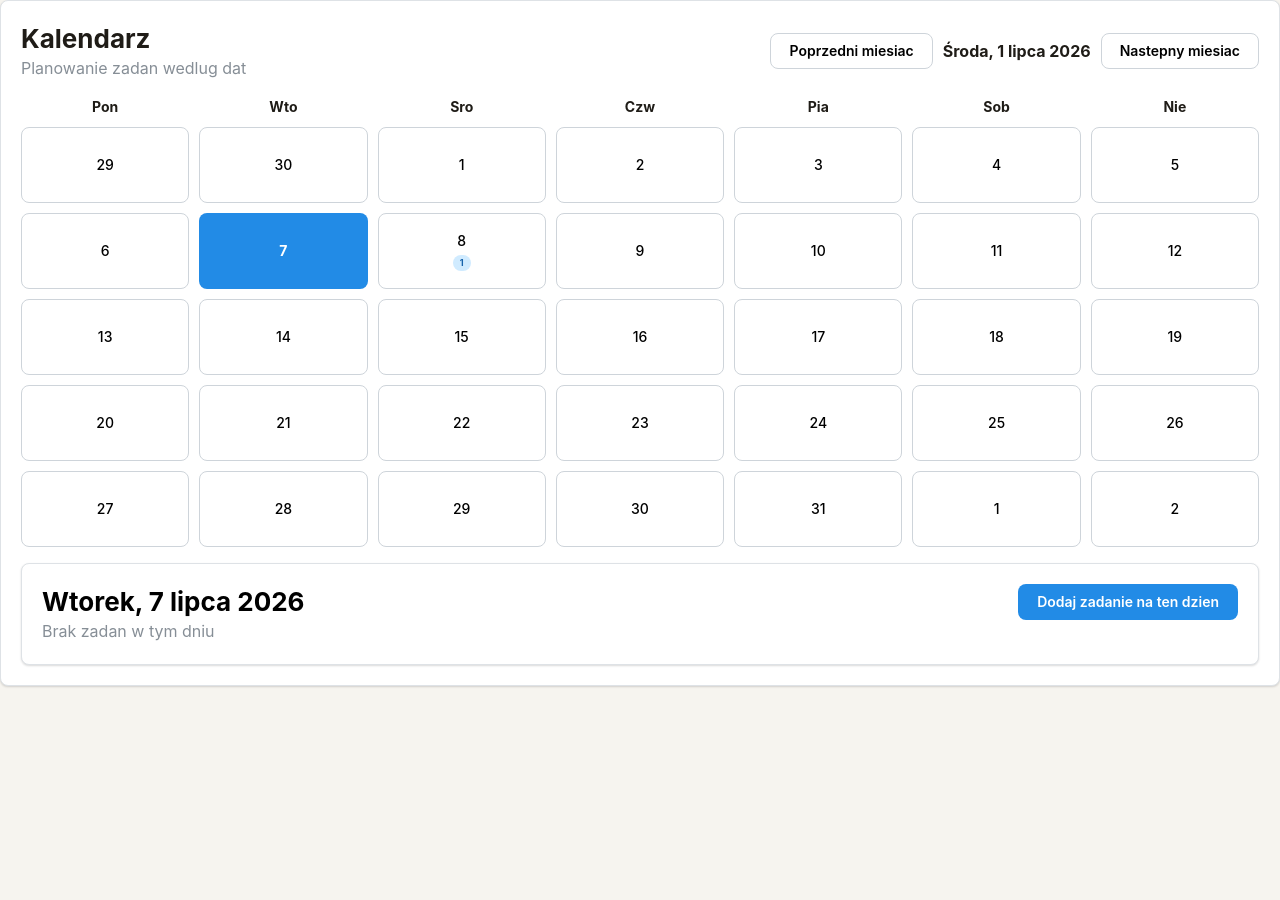
Test case: CalendarView › postpones a selected-day task to a chosen date
The image size is (1280, 900).
Step 1. Click the button named "Środa, 8 lipca 2026" → [462, 251], box [378,213,546,289]
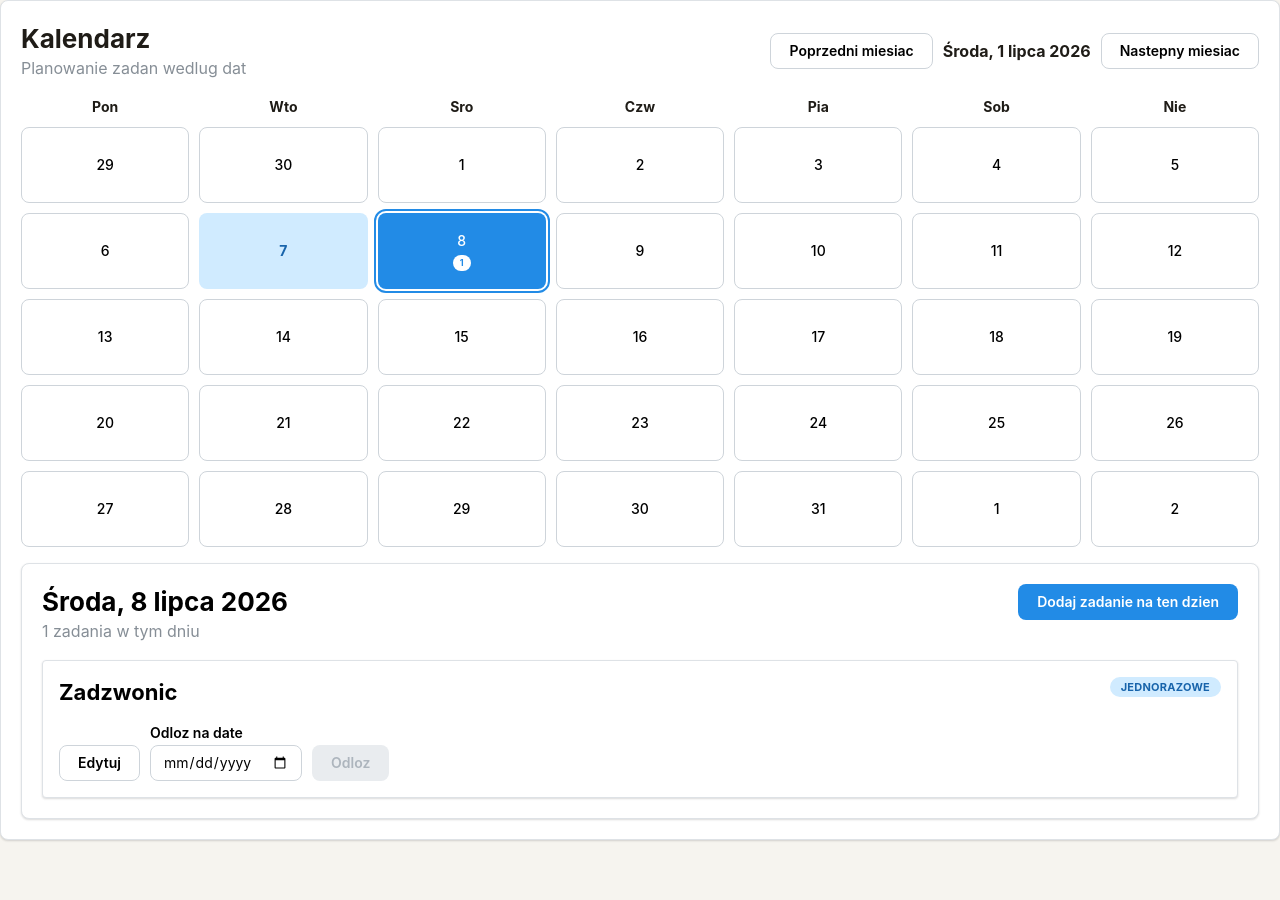
Step 2. Type "2026-07-20" into the date field labelled "Odloz na date" → [226, 763], box [150,745,302,781]
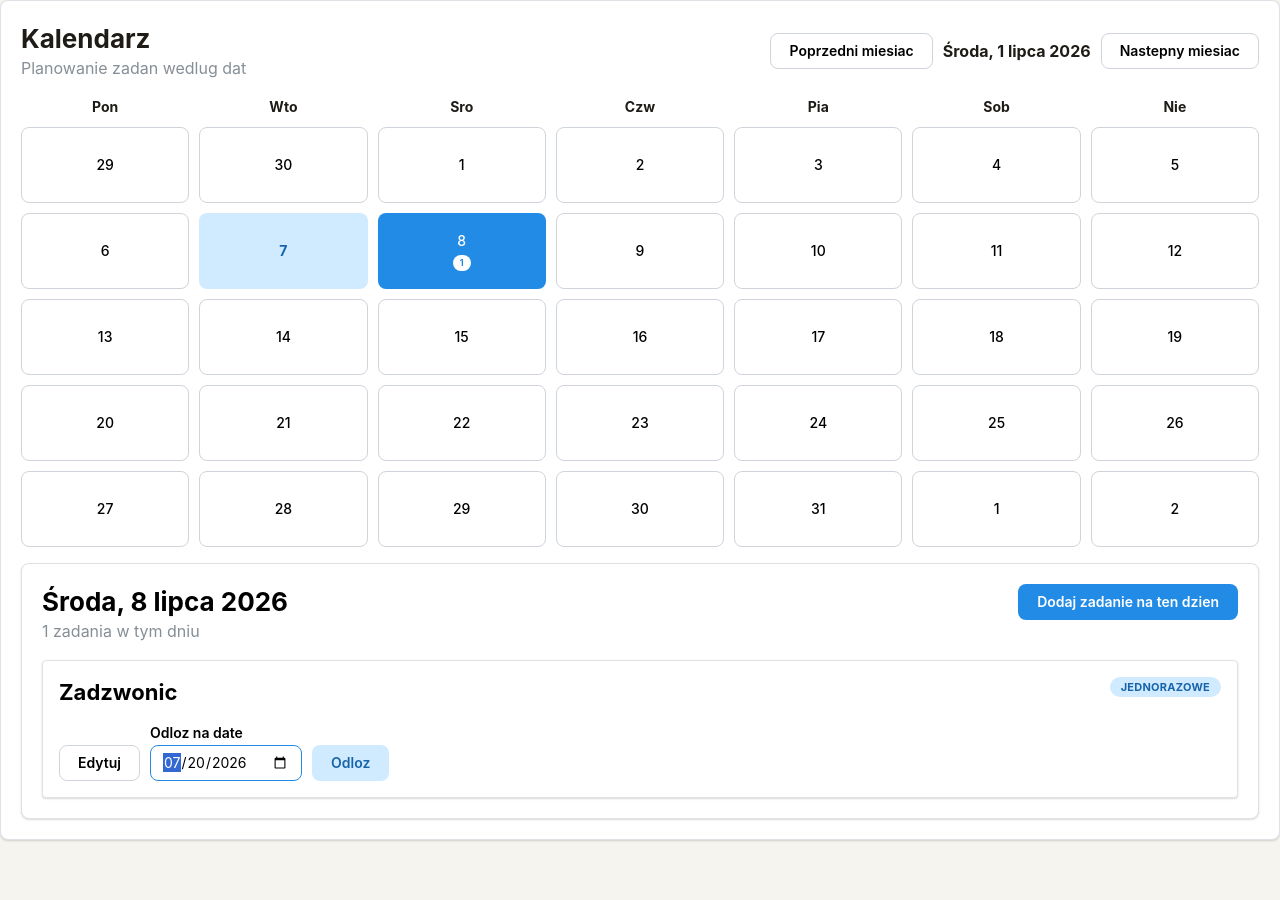
Step 3. Click the button with aria-label "Odloz Zadzwonic" → [351, 763], box [312,745,389,781]
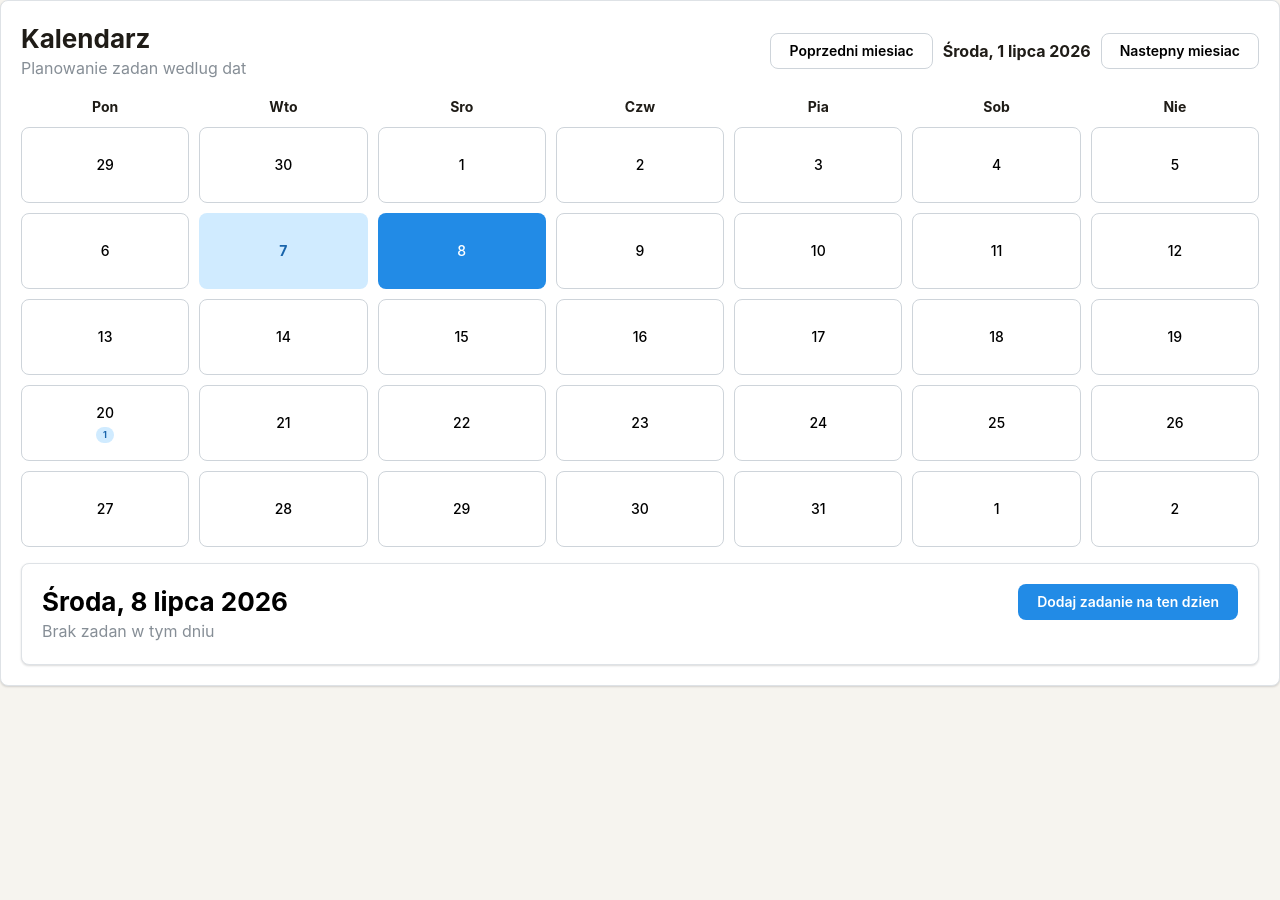
Expected: the heading "Zadzwonic" is gone
Step 4. Click the button named "Poniedziałek, 20 lipca 2026" → [105, 423], box [21,385,189,461]
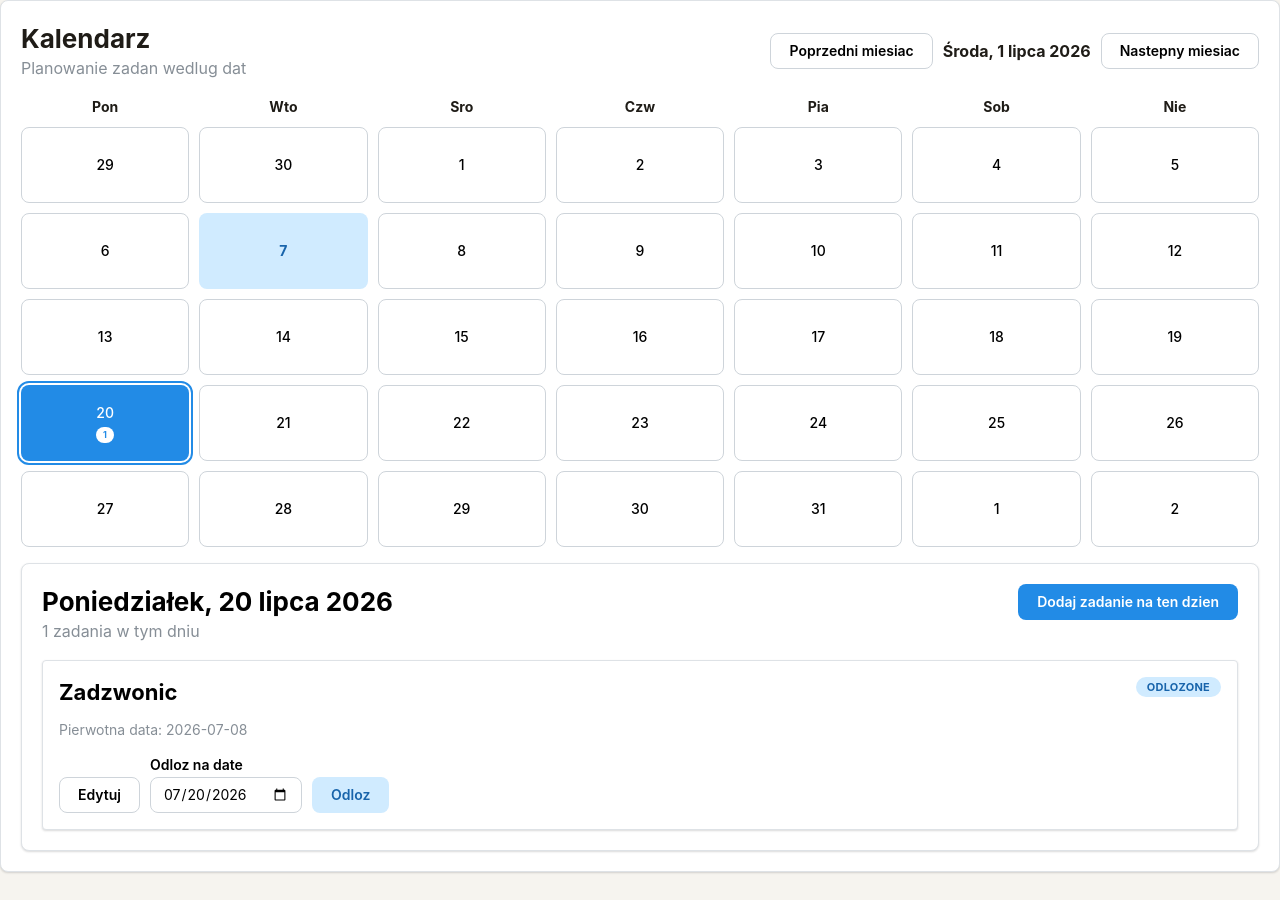
Expected: the heading "Zadzwonic" is shown, [59,677,177,708]
Expected: the text "Odlozone" is shown, [1147,678,1210,696]
